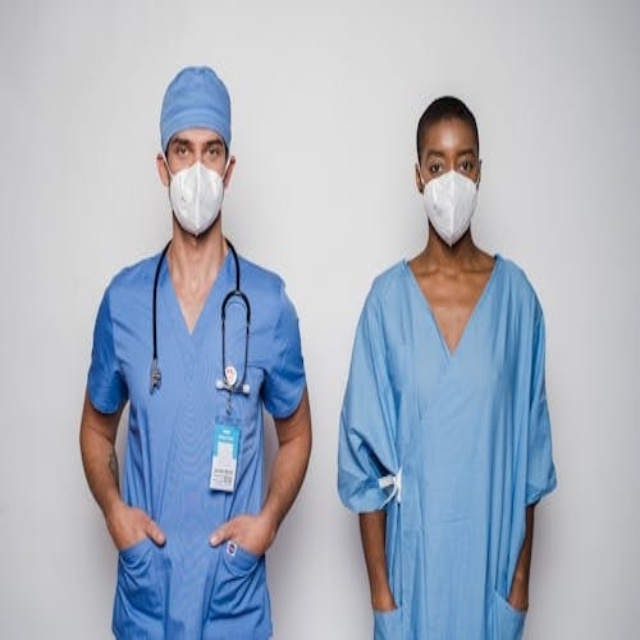Mascara: (166, 156, 225, 235), (421, 166, 479, 245)
Sin_gafas: (421, 142, 479, 175), (169, 136, 223, 161)
Sin_guantes: (106, 494, 165, 552), (207, 507, 273, 552)
